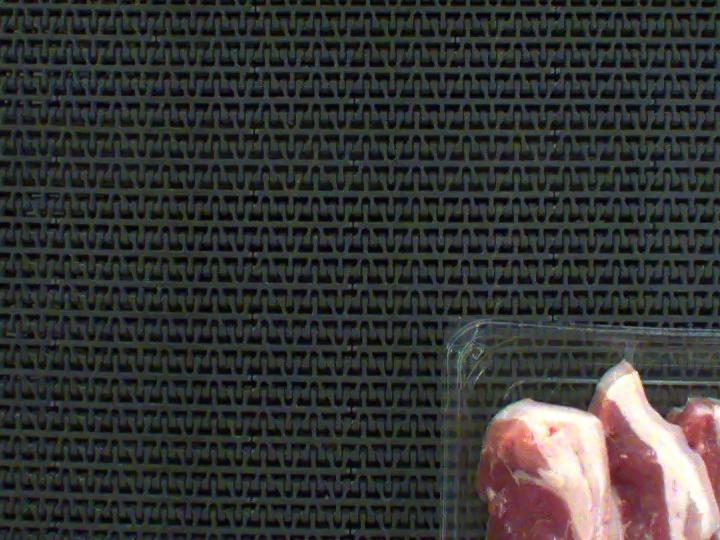packaging-error: (603, 321, 667, 391)
